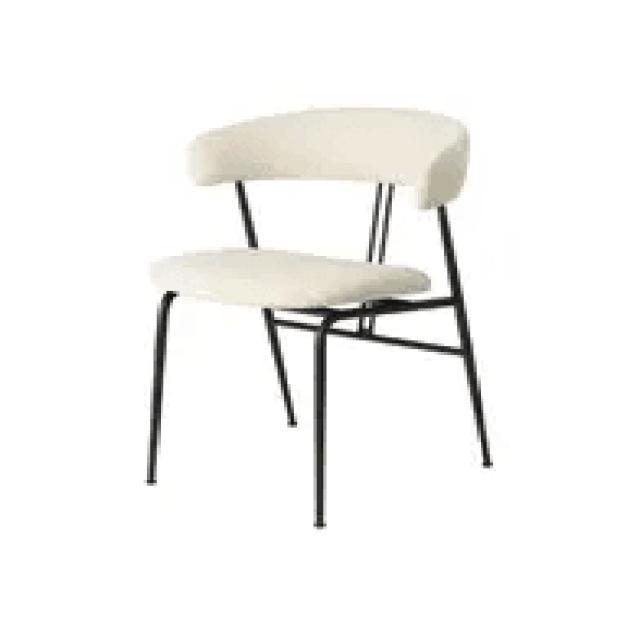chair: (140, 100, 494, 530), (145, 102, 480, 306)
